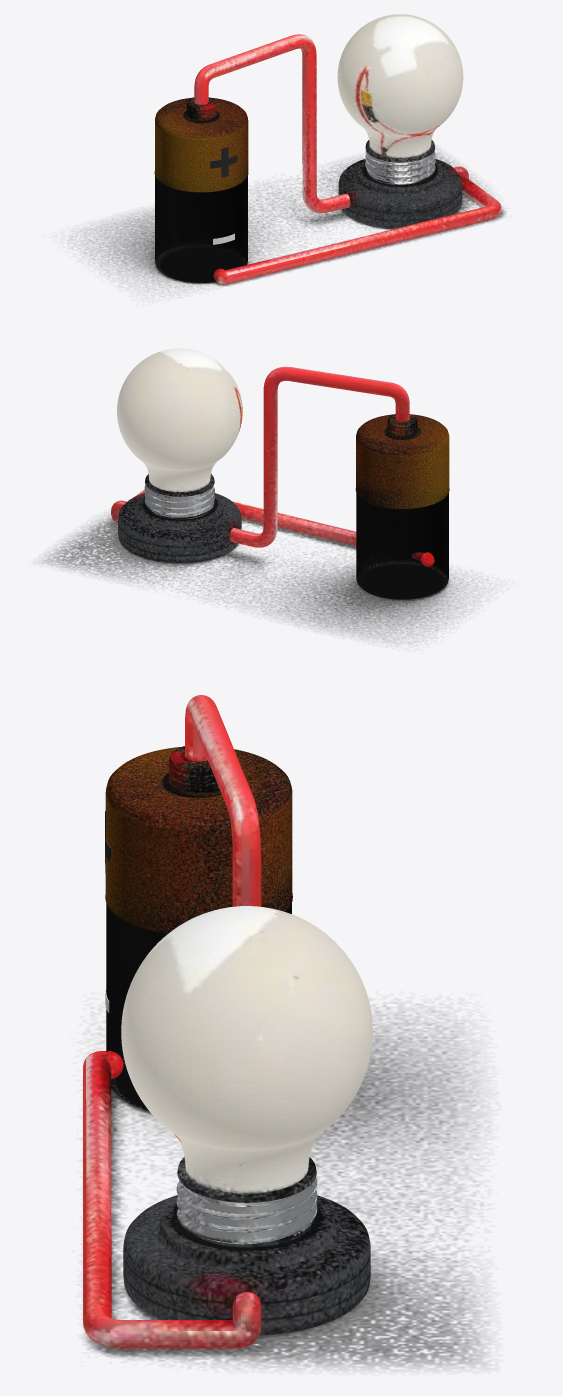
File: circuito.glb
3 renders of one model, top to bottom at view 1: azimuth 30°, elevation 25°; view 2: azimuth 150°, elevation 25°; view 3: azimuth 270°, elevation 25°, orthographic. The views are drawn at different scales.
Parts seen in each view (by area): view 1: pilha, vidro, fio, sombra, base; view 2: pilha, sombra, vidro, base, fio; view 3: vidro, sombra, base, pilha, fio.
Part boxes in pixels (x1=…): pilha: x1=154, y1=97, x2=248, y2=282; vidro: x1=337, y1=14, x2=463, y2=157; fio: x1=194, y1=34, x2=501, y2=284; sombra: x1=71, y1=152, x2=505, y2=290; base: x1=338, y1=140, x2=462, y2=228; pilha: x1=355, y1=414, x2=449, y2=599; sombra: x1=43, y1=515, x2=480, y2=640; vidro: x1=117, y1=348, x2=242, y2=492; base: x1=118, y1=474, x2=241, y2=563; fio: x1=111, y1=366, x2=434, y2=566; vidro: x1=121, y1=906, x2=372, y2=1193; sombra: x1=85, y1=1004, x2=486, y2=1368; base: x1=123, y1=1157, x2=370, y2=1335; pilha: x1=105, y1=746, x2=292, y2=1110; fio: x1=83, y1=695, x2=261, y2=1348.
Size of the model in its own units: 6.4 by 2.89 by 3.2.
5 materials, 5 textured.
